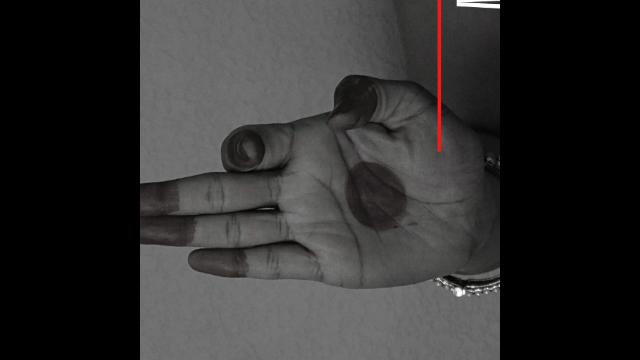aral: (140, 42, 500, 304)
